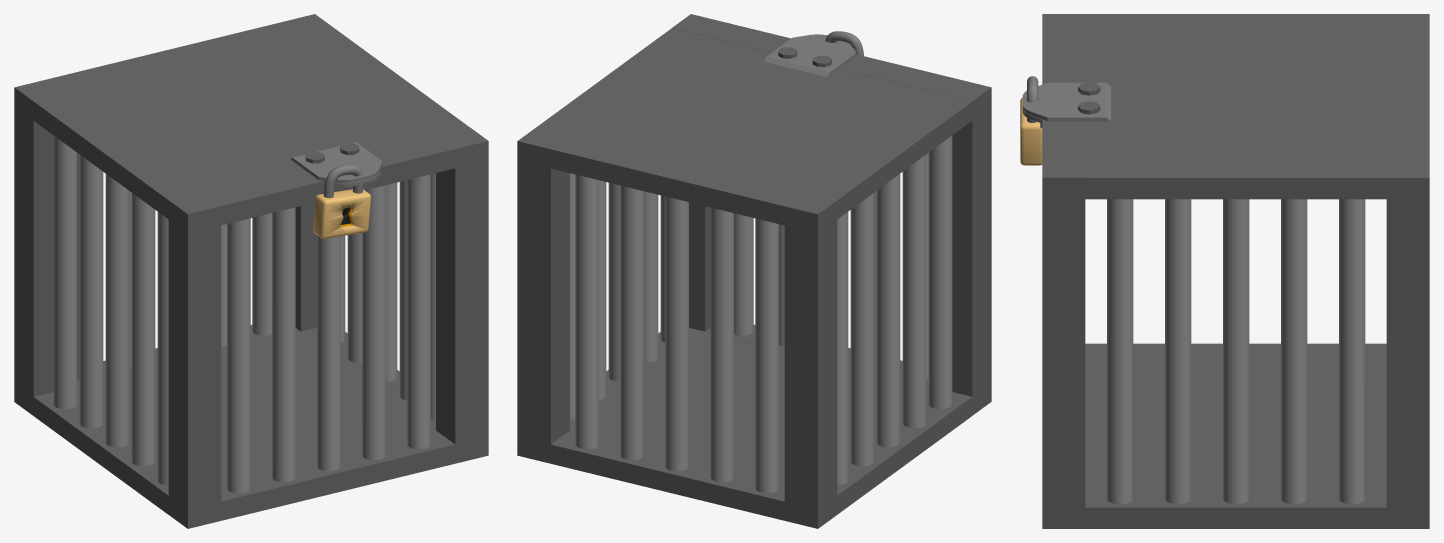
File: garagiste_cage.fbx
3 renders of one model, left to right at view 1: azimuth 30°, elevation 25°; view 2: azimuth 150°, elevation 25°; view 3: azimuth 270°, elevation 25°, orthographic. The views are drawn at different scales.
Parts seen in each view (by area): view 1: cage, cagedoor, locker, Locker_lock; view 2: cage, cagedoor; view 3: cage, cagedoor, locker.
Part boxes in pixels (x1,y1,x2,y2): cage: (14, 14, 468, 514); cagedoor: (168, 127, 488, 528); locker: (313, 189, 370, 238); Locker_lock: (323, 164, 363, 198); cage: (517, 28, 972, 528); cagedoor: (672, 14, 991, 415); cage: (1022, 14, 1429, 528); cagedoor: (1022, 14, 1085, 528); locker: (1020, 97, 1042, 165).
Bounding box in the file's own units: 9.42 × 9.87 × 9.96.
